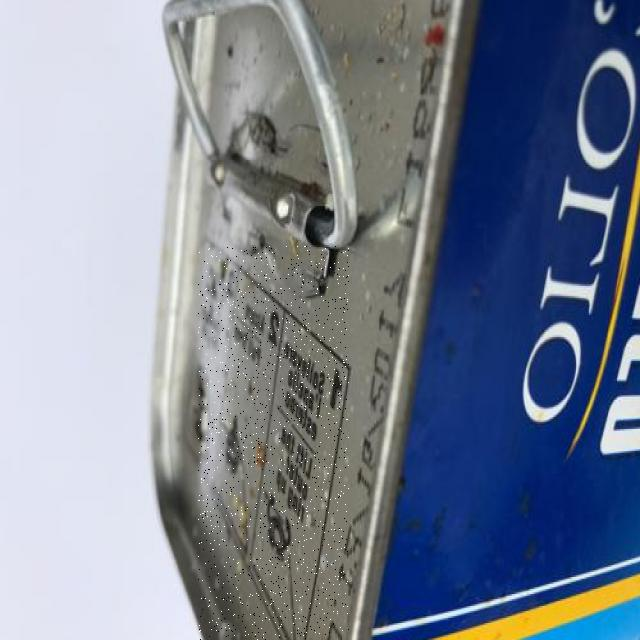metal: (199, 246, 349, 640)
